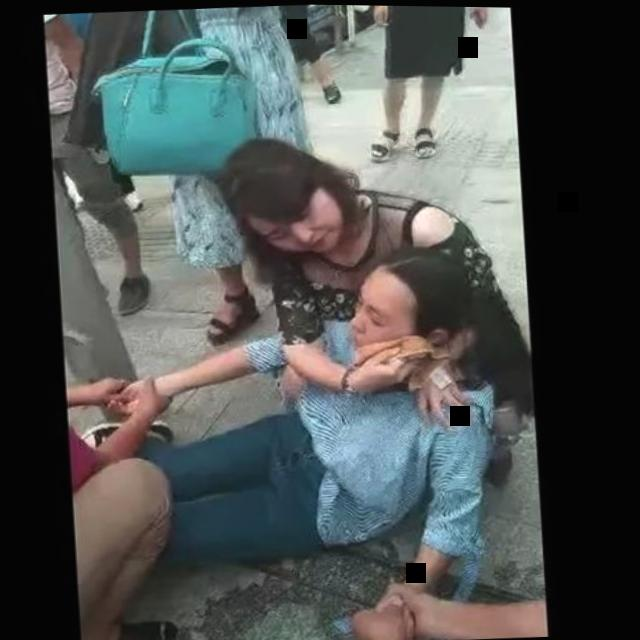Fall-Detected: (83, 234, 524, 640)
